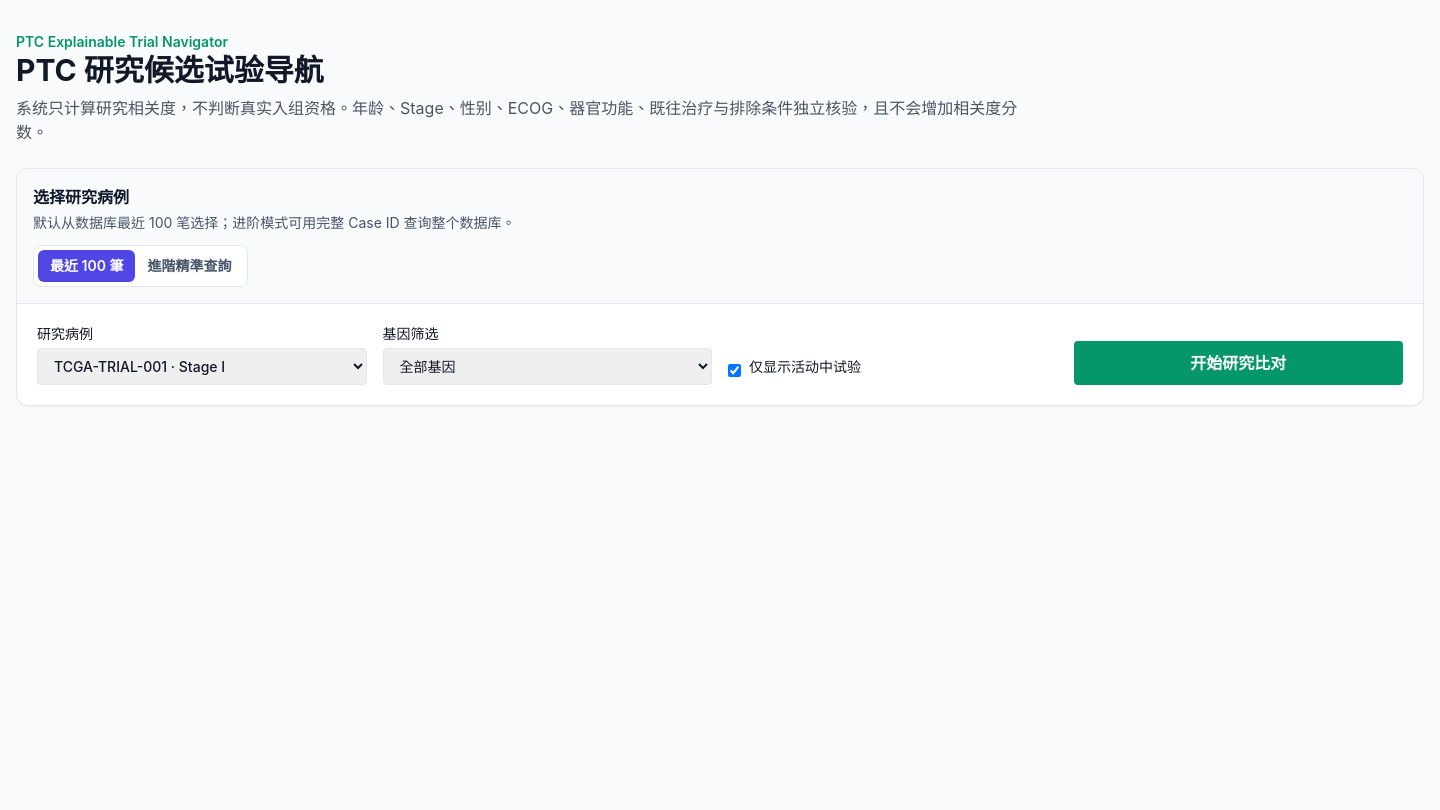
PTCTrialMatchingPage › separates research relevance from eligibility review
The image size is (1440, 810).
Select "BRAF" in the dropdown labelled "基因筛选". click: (547, 366)
box: [382,348,712,385]
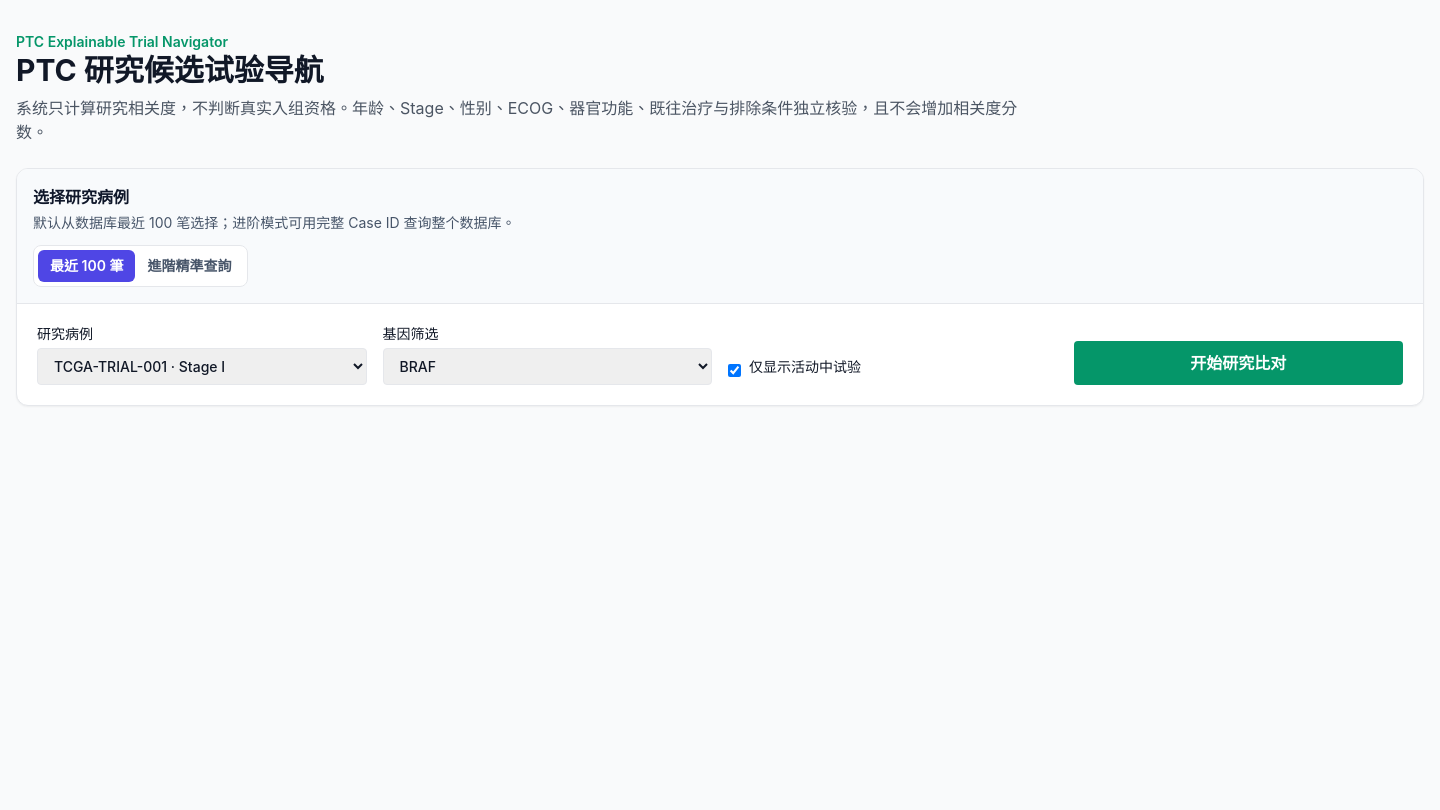
Click the button "开始研究比对". click: click(1238, 363)
box: [1074,341,1403,385]
(page scrolled)
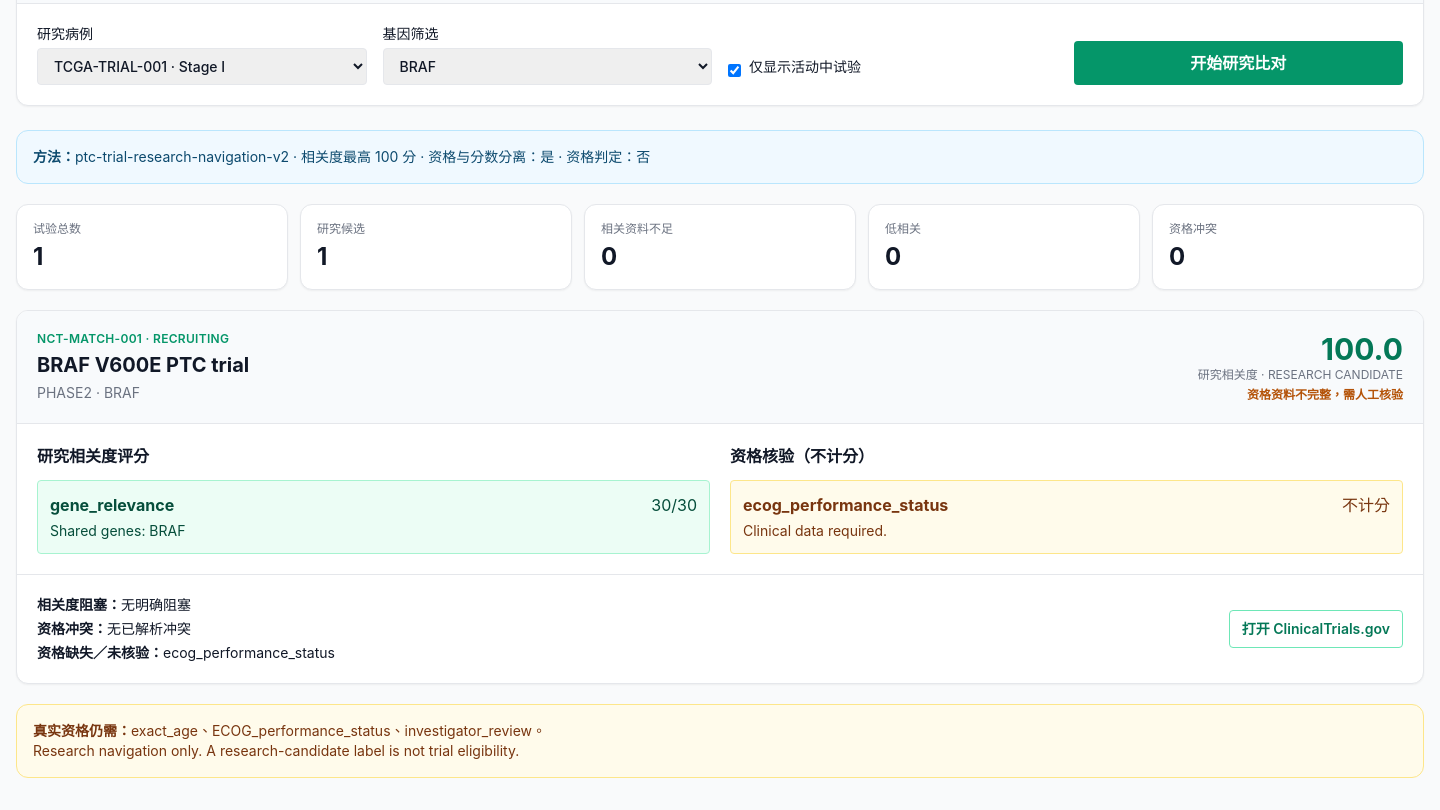
Expected: the text "NCT-MATCH-001 · RECRUITING" is shown, [37,331,249,347]
Expected: the heading "研究相关度评分" is shown, [37,446,149,466]
Expected: the heading "资格核验（不计分）" is shown, [730,446,874,466]
